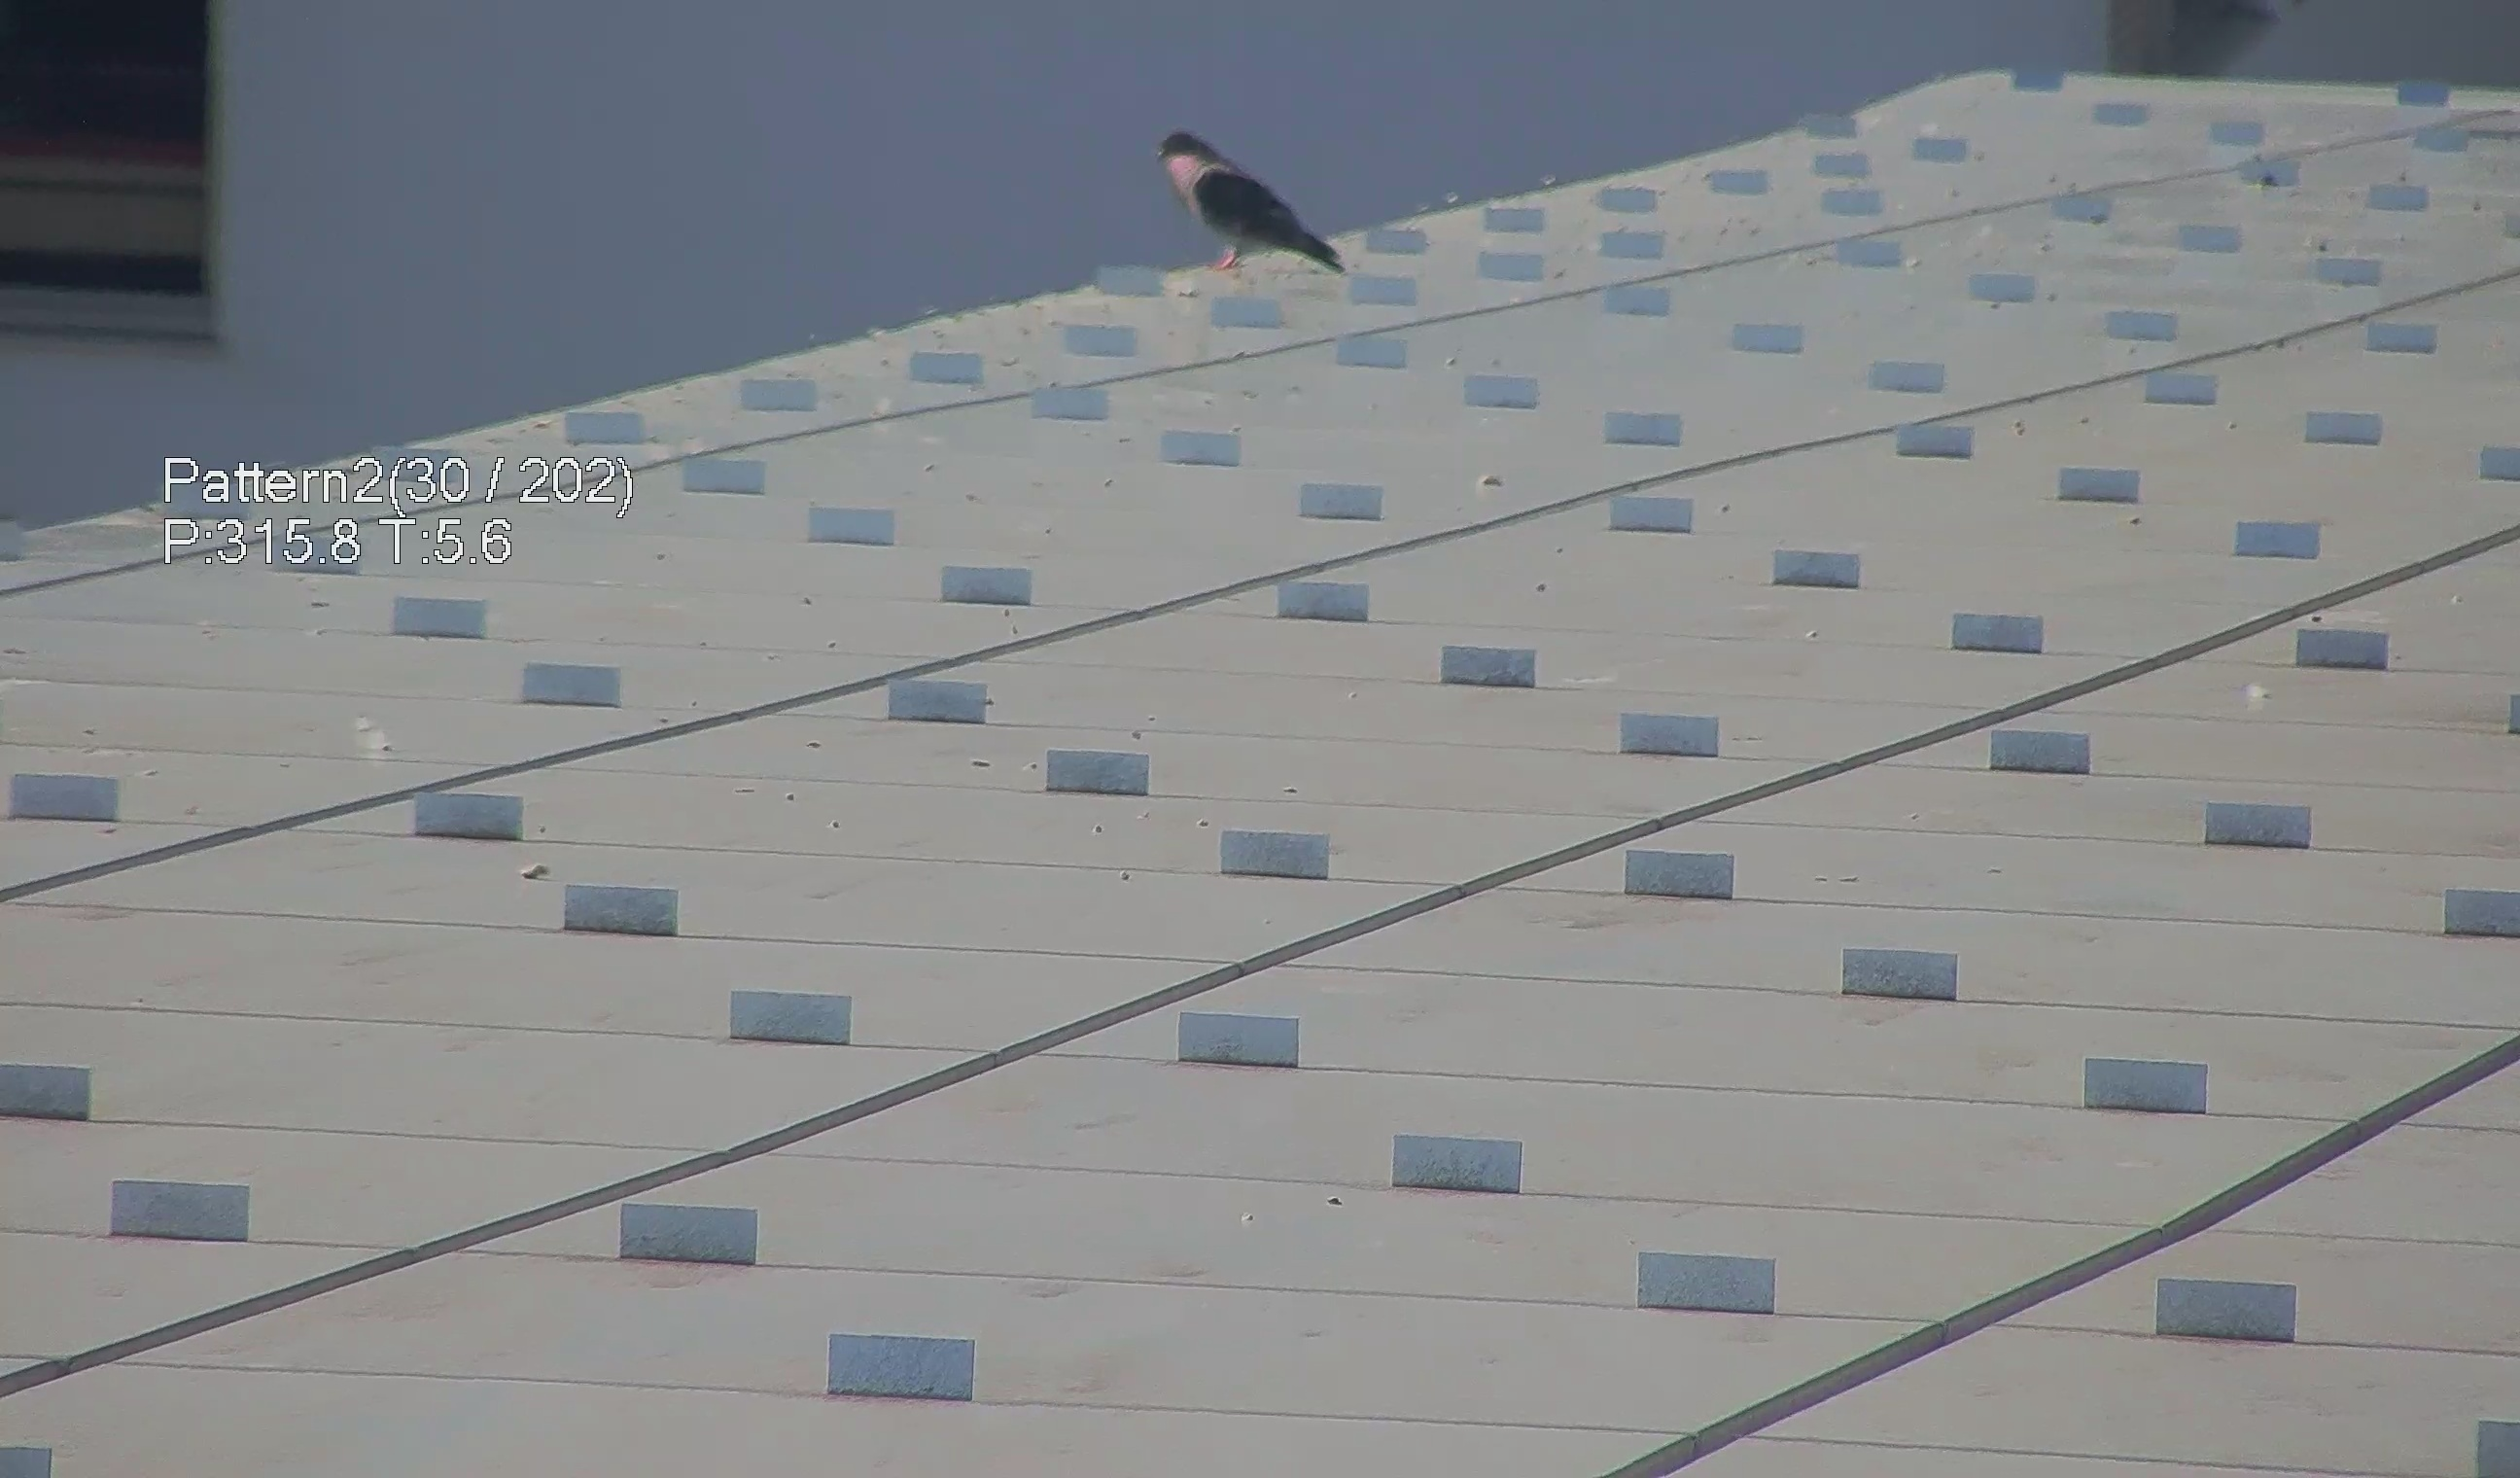Pigeon: (1145, 121, 1351, 280)
